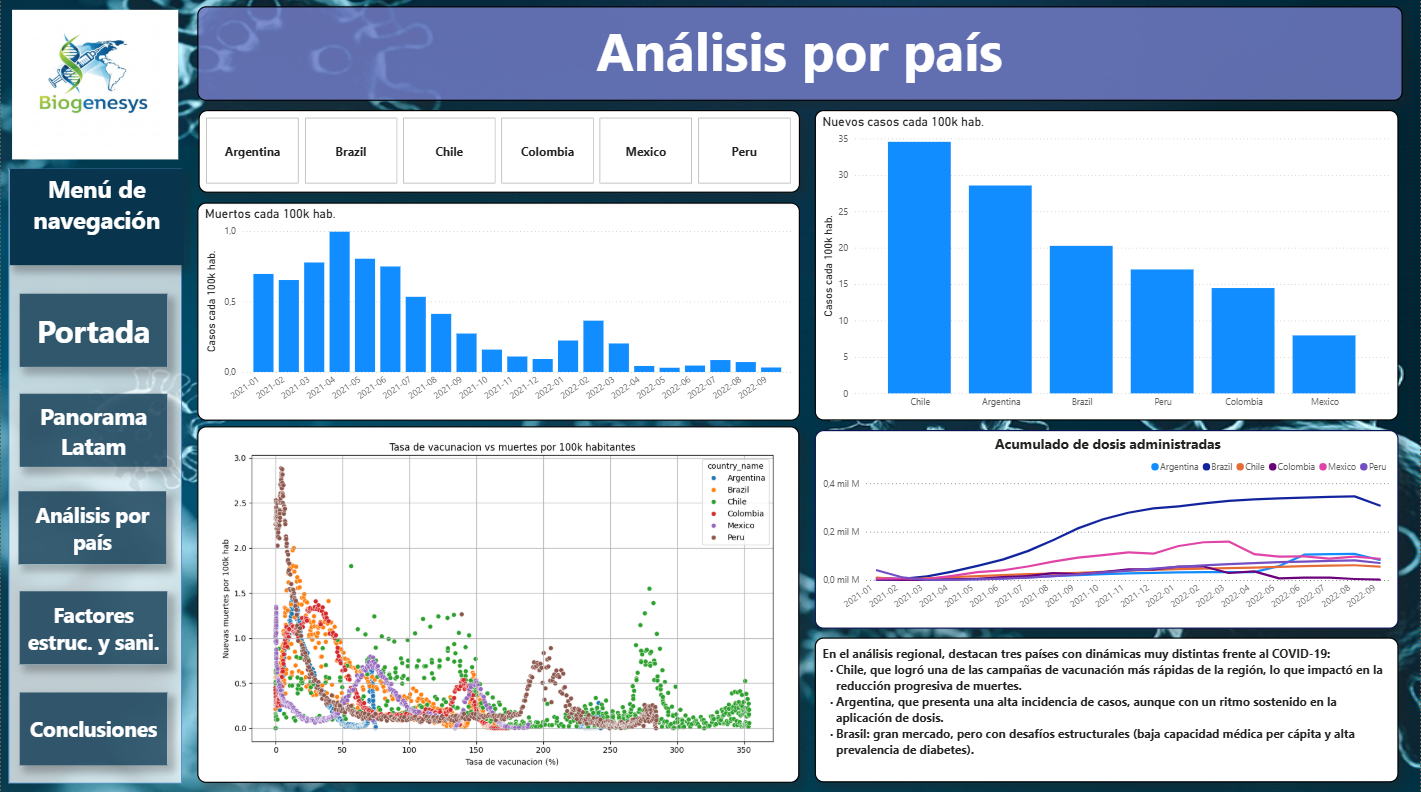

What the dashboard file says about the page in this screenshot:
{"tool":"powerbi","page":{"name":"Analisis por pais","canvas":[1920,1080],"ordinal":1},"visuals":[{"type":"textbox","box":[265.5,14.4,1630.2,127.6],"z":0},{"type":"image","box":[10.3,14.4,234.6,212],"z":1000},{"type":"slicer","fields":{"Values":["DatosFinalesFiltrados.country_name"]},"box":[265.5,152.3,533.1,74.1],"z":2000},{"type":"slicer","fields":{"Values":["Calendario.Año"]},"box":[815.1,152.3,533.1,74.1],"z":3000},{"type":"slicer","fields":{"Values":["Calendario.Mes"]},"box":[1362.6,152.3,533.1,74.1],"z":4000},{"type":"multiRowCard","fields":{"Values":["Avg(DatosFinalesFiltrados.tasa_vacunacion)","Avg(DatosFinalesFiltrados.cumulative_confirmed)","Avg(DatosFinalesFiltrados.cumulative_deceased)","Avg(DatosFinalesFiltrados.population)","Avg(DatosFinalesFiltrados.life_expectancy)","Avg(DatosFinalesFiltrados.gdp_per_capita_usd)"]},"box":[265,235.1,1630.8,100.8],"z":5000},{"type":"lineChart","title":"Tasa de muertos cada 100k habitantes","fields":{"Series":["DatosFinalesFiltrados.country_name"],"Category":["Calendario.Año-Mes"],"Y":["Tabla.tasa_muertos_100k"]},"box":[265,348.9,1630.8,335.9],"z":6000},{"type":"clusteredColumnChart","title":"Nuevos casos cada 100k hab.","fields":{"Y":["Medidas.nuevos_casos_por_100k"],"Category":["DatosFinalesFiltrados.country_name"]},"box":[265,697.9,817.3,369.5],"z":7000},{"type":"pythonVisual","fields":{"Values":["DatosFinalesFiltrados.country_name","DatosFinalesFiltrados.tasa_vacunacion","Medidas.tasa_muertos_100k"]},"box":[1100.2,697.8,794.9,368.7],"z":8000},{"type":"shape","box":[10.3,234.6,234.6,831.6],"z":9000},{"type":"textbox","box":[24.7,251.1,199.7,113.2],"z":10000},{"type":"actionButton","box":[24.7,942.7,199.7,98.8],"z":11000},{"type":"actionButton","box":[26.1,806.1,199.7,98.9],"z":12000},{"type":"actionButton","box":[26.1,673.6,199.7,98.9],"z":13000},{"type":"actionButton","box":[24.3,404.9,199.7,98.9],"z":14000},{"type":"actionButton","box":[26.1,539.3,199.7,98.9],"z":15000}]}

Visuals, with their boxes in screenshot pixels (x1, y1, x2, y2), scaled from the page's 1920x1080 canvas onto the 1421x792 screenshot:
textbox: <box>196,11,1403,104</box>
image: <box>8,11,181,166</box>
slicer - DatosFinalesFiltrados.country_name: <box>196,112,591,166</box>
slicer - Calendario.Año: <box>603,112,998,166</box>
slicer - Calendario.Mes: <box>1008,112,1403,166</box>
multiRowCard - Avg(DatosFinalesFiltrados.tasa_vacunacion) x Avg(DatosFinalesFiltrados.cumulative_confirmed): <box>196,172,1403,246</box>
"Tasa de muertos cada 100k habitantes" lineChart: <box>196,256,1403,502</box>
"Nuevos casos cada 100k hab." clusteredColumnChart: <box>196,512,801,783</box>
pythonVisual - DatosFinalesFiltrados.country_name x DatosFinalesFiltrados.tasa_vacunacion: <box>814,512,1403,782</box>
shape: <box>8,172,181,782</box>
textbox: <box>18,184,166,267</box>
actionButton: <box>18,691,166,764</box>
actionButton: <box>19,591,167,664</box>
actionButton: <box>19,494,167,566</box>
actionButton: <box>18,297,166,369</box>
actionButton: <box>19,395,167,468</box>
